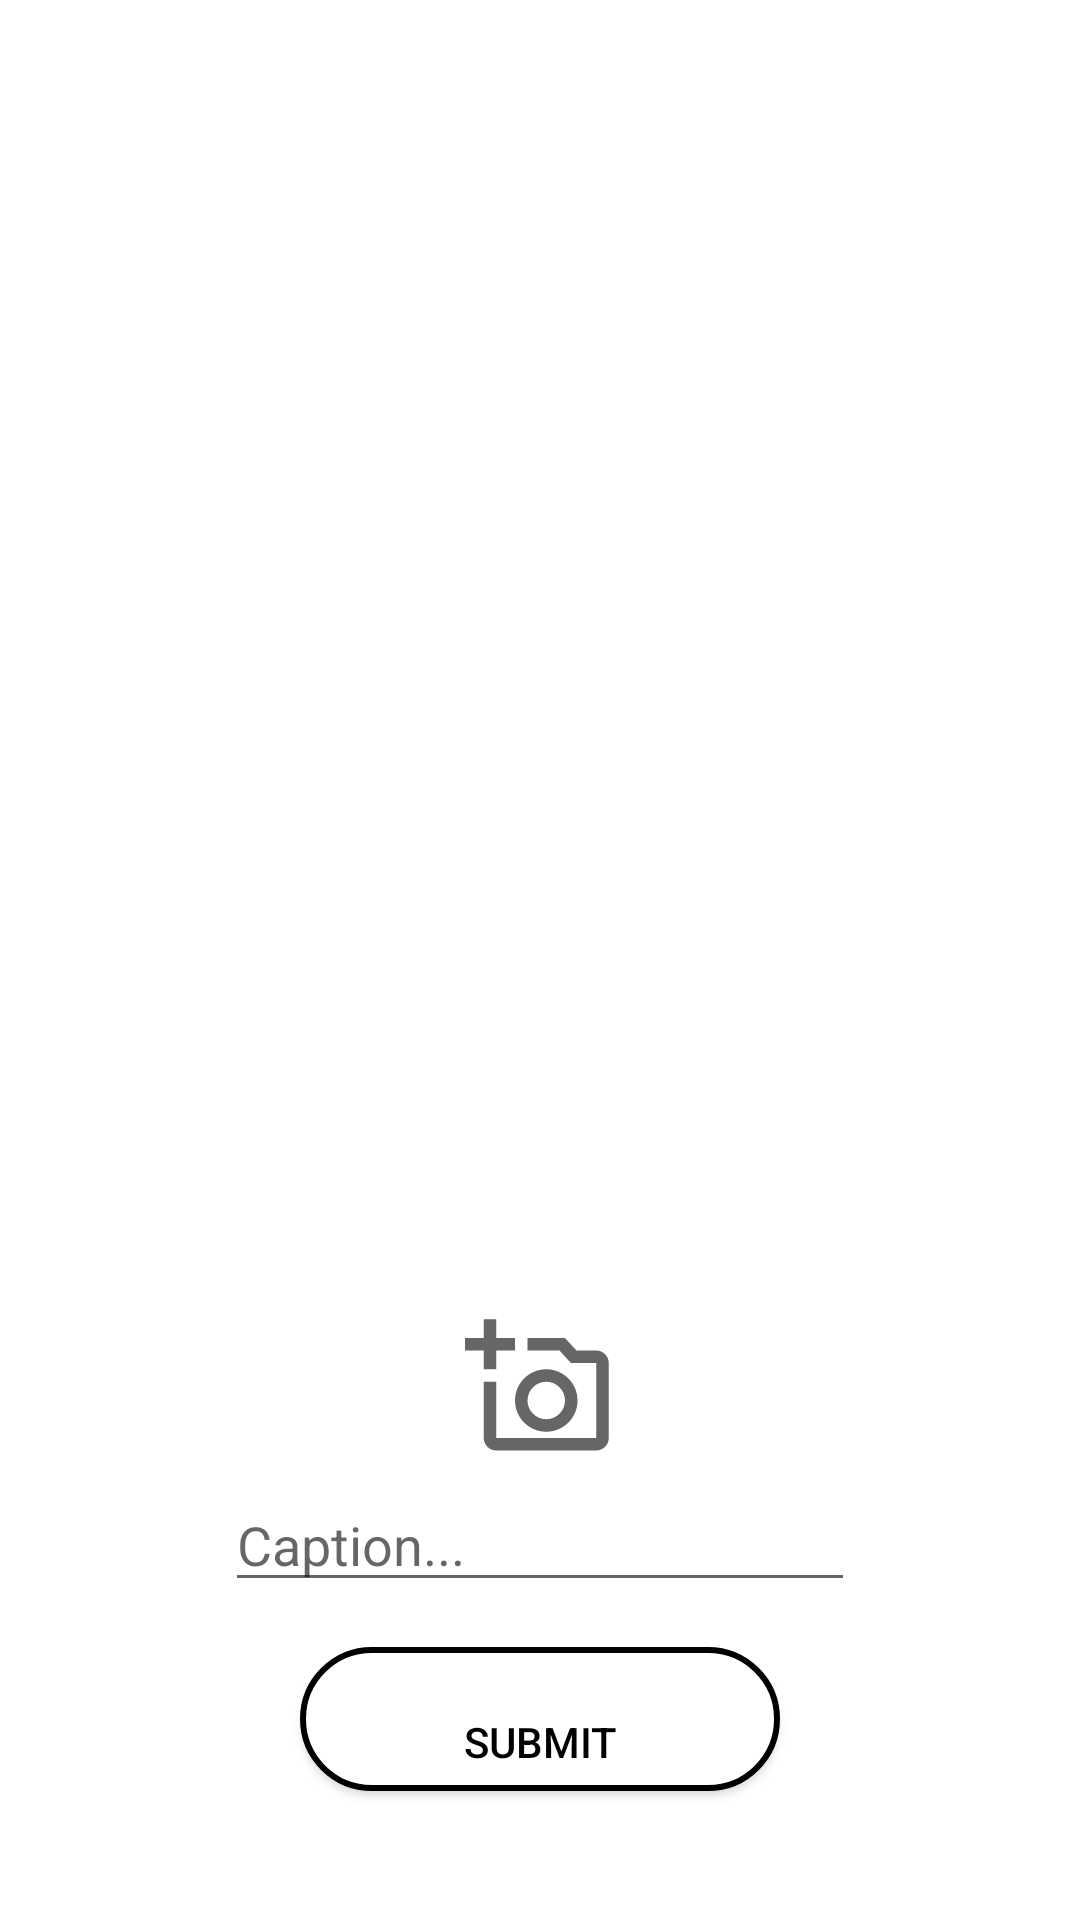

Point at icon controls on the screen. Image size 1080 × 1920, points as [x,y].
Take Photo: [537,1385]
